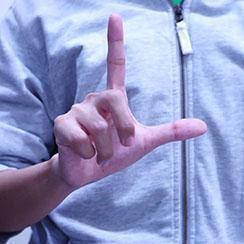L: (37, 6, 225, 208)
